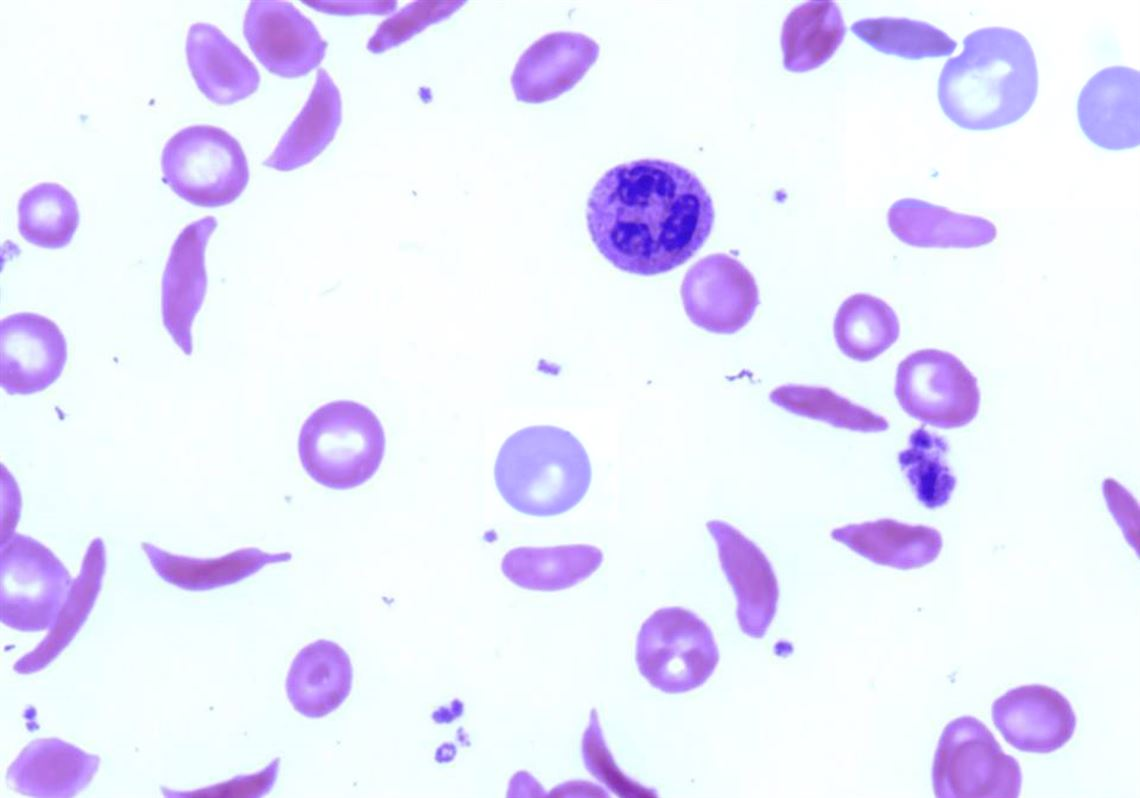redbloodcell: (568, 139, 716, 286), (278, 381, 413, 520), (621, 588, 730, 712), (478, 417, 603, 523), (265, 623, 377, 728), (892, 345, 1003, 440), (679, 241, 775, 337), (158, 110, 251, 207), (1075, 50, 1140, 166), (1, 306, 78, 401), (1, 176, 89, 257), (824, 284, 908, 361)
sicklecell: (134, 207, 240, 372), (697, 509, 810, 661), (11, 526, 113, 671), (565, 699, 696, 798), (757, 364, 895, 453), (256, 64, 362, 178), (121, 534, 319, 593), (138, 745, 323, 798), (852, 10, 957, 64)
